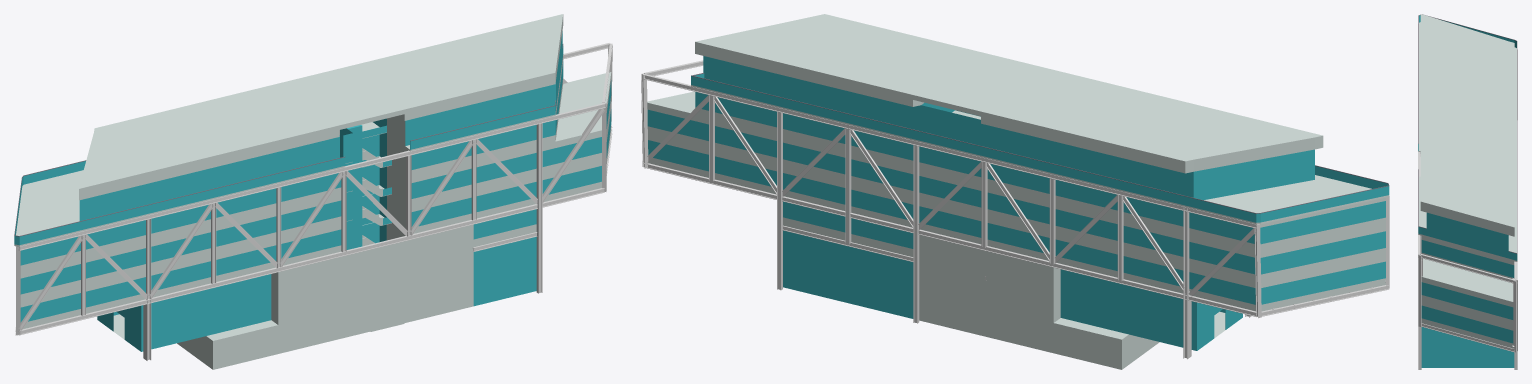
File: CIA33.fbx
The picture shows the model from 3 angles, left to right: view 1: azimuth 30°, elevation 25°; view 2: azimuth 150°, elevation 25°; view 3: azimuth 270°, elevation 25°; orthographic projection. The views are drawn at different scales.
Visible parts, largest first — view 1: Cube.017, Cube.004, Cube.010, Cube.018, Cube.005, Cube.033, Cube.040, Cube.042, Cube.041, Cube.043, Cube.072, Cube.047 (+2 smaller); view 2: Cube.017, Cube.003, Cube.009, Cube.023, Cube.002, Cube.025, Cube.024, Cube.001, Cube.037, Cube.032, Cube.031, Cube.044 (+4 smaller); view 3: Cube.017, Cube.028, Cube.007, Cube.027, Cube.010, Cube.019, Cube.009, Cube.018.
Boxes of the visible parts, x1,y1,x2,y2 form: Cube.017: [14, 14, 611, 369]; Cube.004: [19, 188, 604, 335]; Cube.010: [19, 103, 605, 250]; Cube.018: [536, 123, 542, 293]; Cube.005: [143, 219, 151, 360]; Cube.033: [542, 108, 604, 202]; Cube.040: [18, 236, 84, 330]; Cube.042: [279, 172, 344, 266]; Cube.041: [148, 204, 214, 298]; Cube.043: [409, 140, 474, 235]; Cube.072: [344, 171, 409, 236]; Cube.047: [474, 139, 537, 204]; Cube.017: [647, 14, 1389, 369]; Cube.003: [643, 163, 1257, 316]; Cube.009: [643, 74, 1256, 228]; Cube.023: [913, 144, 919, 323]; Cube.002: [1183, 207, 1191, 359]; Cube.025: [777, 111, 782, 290]; Cube.024: [845, 127, 851, 243]; Cube.001: [1261, 285, 1389, 316]; Cube.037: [782, 225, 913, 261]; Cube.032: [850, 130, 913, 227]; Cube.031: [986, 163, 1049, 261]; Cube.044: [714, 96, 776, 194]; Cube.017: [1418, 14, 1517, 367]; Cube.028: [1420, 254, 1514, 283]; Cube.007: [1421, 323, 1514, 352]; Cube.027: [1513, 280, 1517, 352]; Cube.010: [1418, 24, 1420, 257]; Cube.019: [1418, 254, 1422, 326]; Cube.009: [1515, 49, 1517, 283]; Cube.018: [1418, 235, 1421, 369].
Size of the model in its own units: 10088 by 3178 by 1648.
